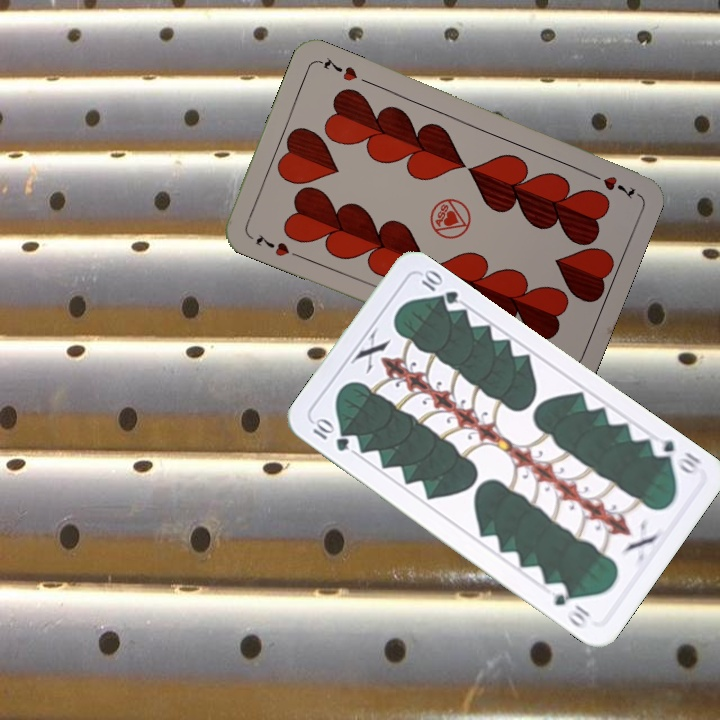G10: (647, 432, 704, 479), (308, 415, 352, 455)
H7: (584, 168, 638, 201), (251, 230, 292, 259)
